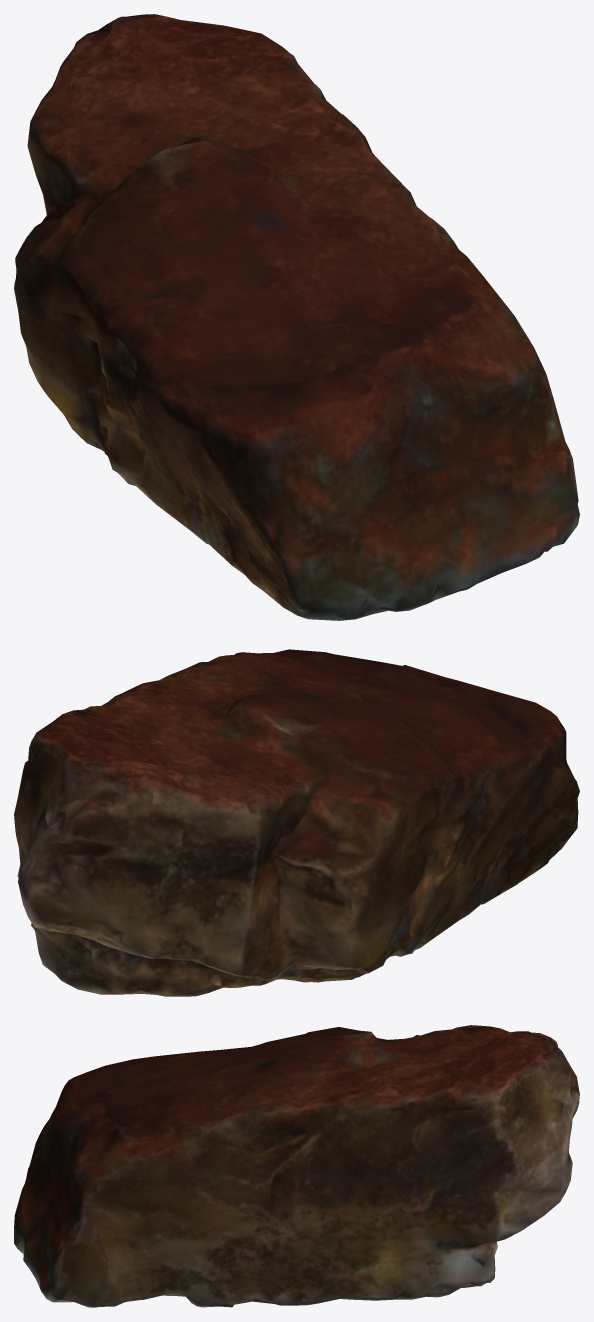
Rendered from rock-07.lod1.glb.
3 renders of one model, top to bottom at view 1: azimuth 30°, elevation 25°; view 2: azimuth 150°, elevation 25°; view 3: azimuth 270°, elevation 25°, orthographic. The views are drawn at different scales.
Parts seen in each view (by area): view 1: rock_07; view 2: rock_07; view 3: rock_07.
Part boxes in pixels (<box>): rock_07: <box>14,14,579,620</box>; rock_07: <box>14,649,579,996</box>; rock_07: <box>14,1025,579,1307</box>.
Bounding box in the file's own units: 0.1686 × 0.1437 × 0.3199.
Materials: 1 (1 with a texture image).
